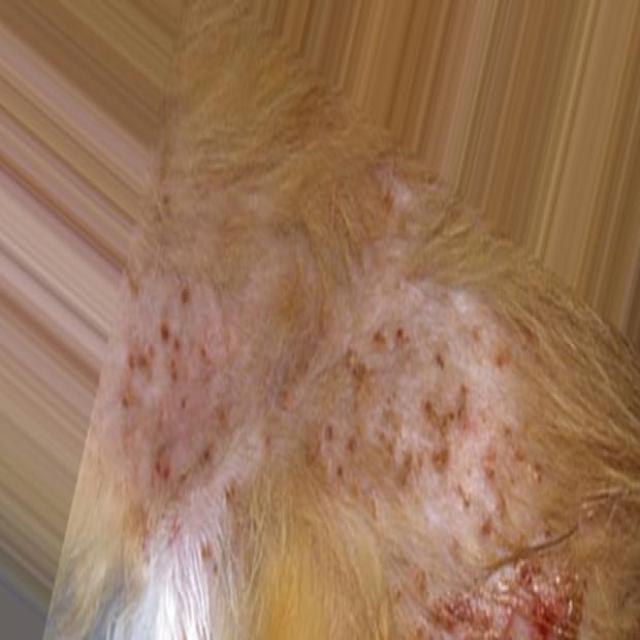di ung bo chet: (180, 117, 628, 640)
